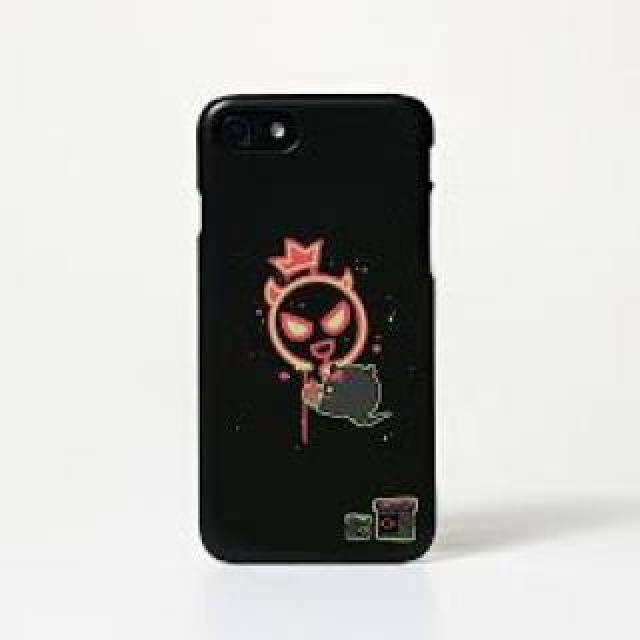smart phone: (165, 29, 480, 608)
